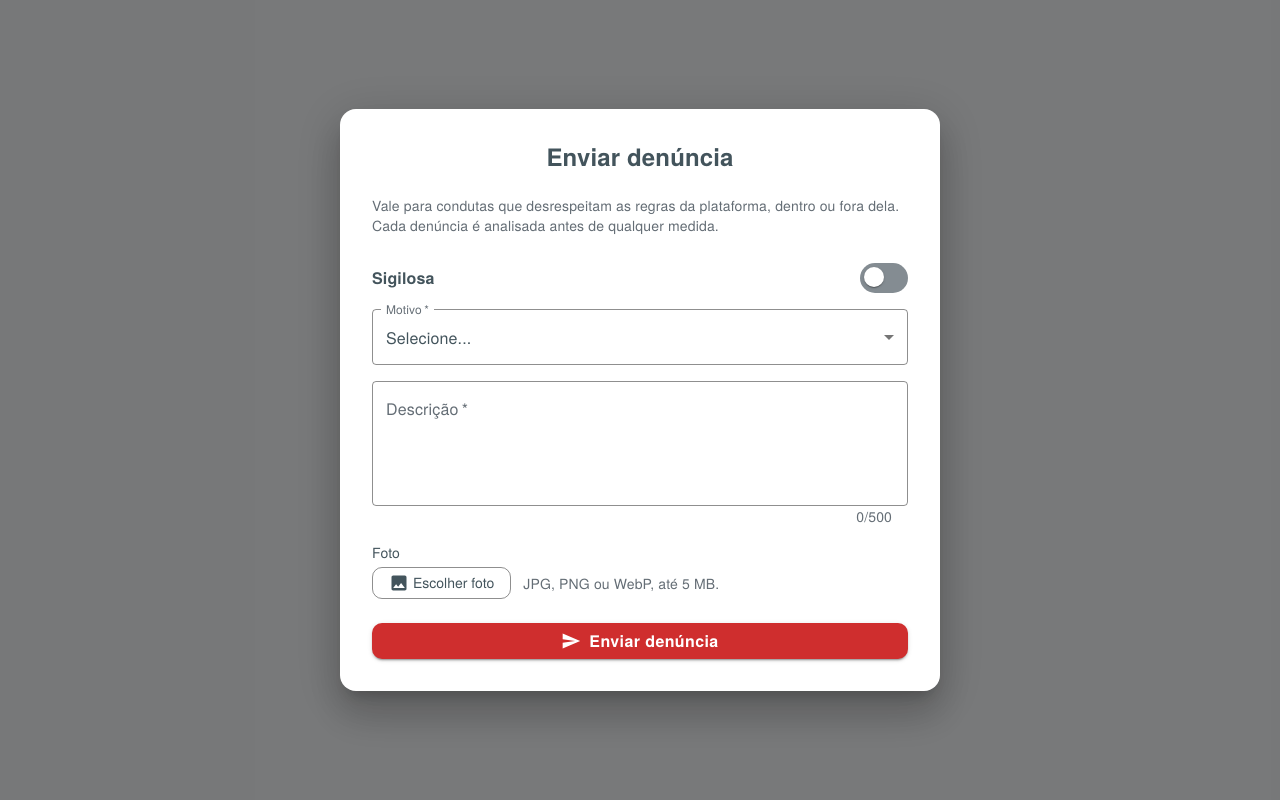
Test case: ReportFormDialog › should refuse a description shorter than the entity accepts
Expected: the heading "Enviar denúncia" is shown, [546,139,734,173]
Type "sumiu" into the text box labelled "Descrição *" at (640,444), box [386,398,894,490]
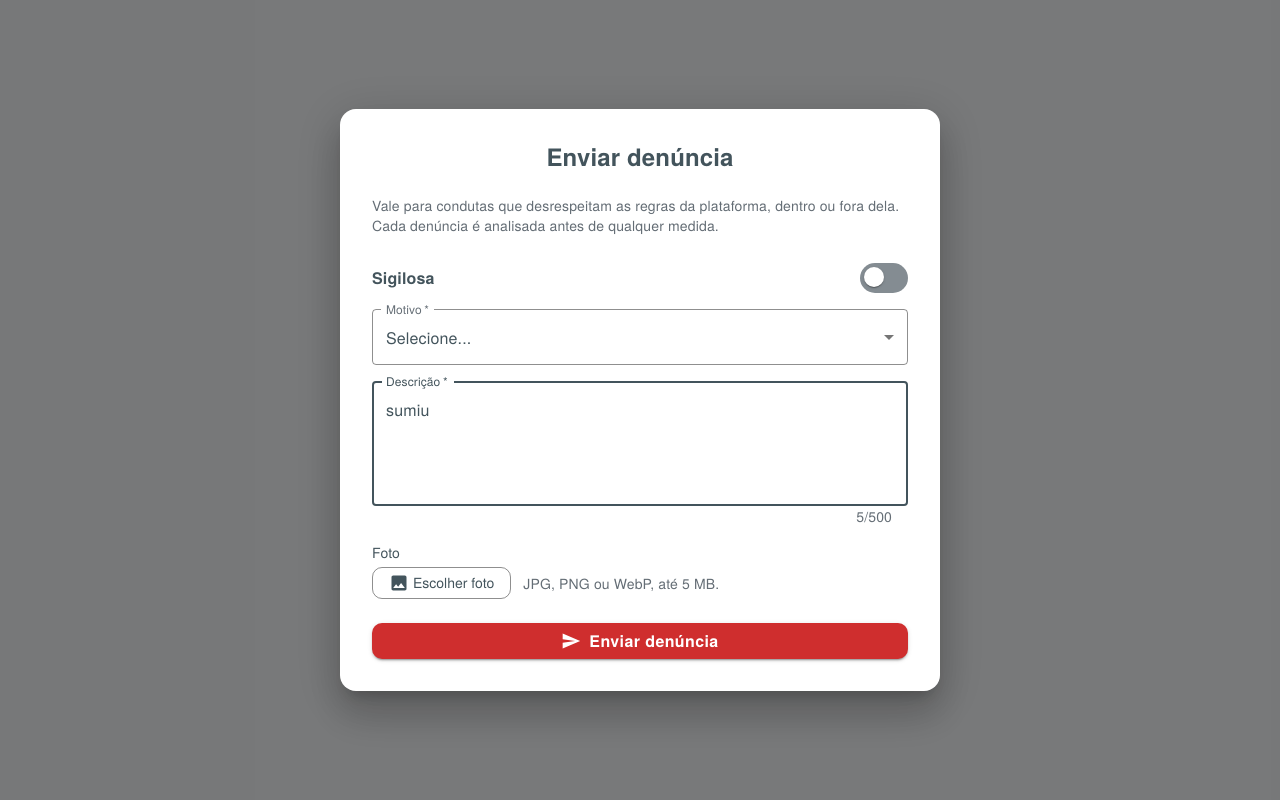
Click the button "Enviar denúncia" at (640,641), box [372,623,908,659]
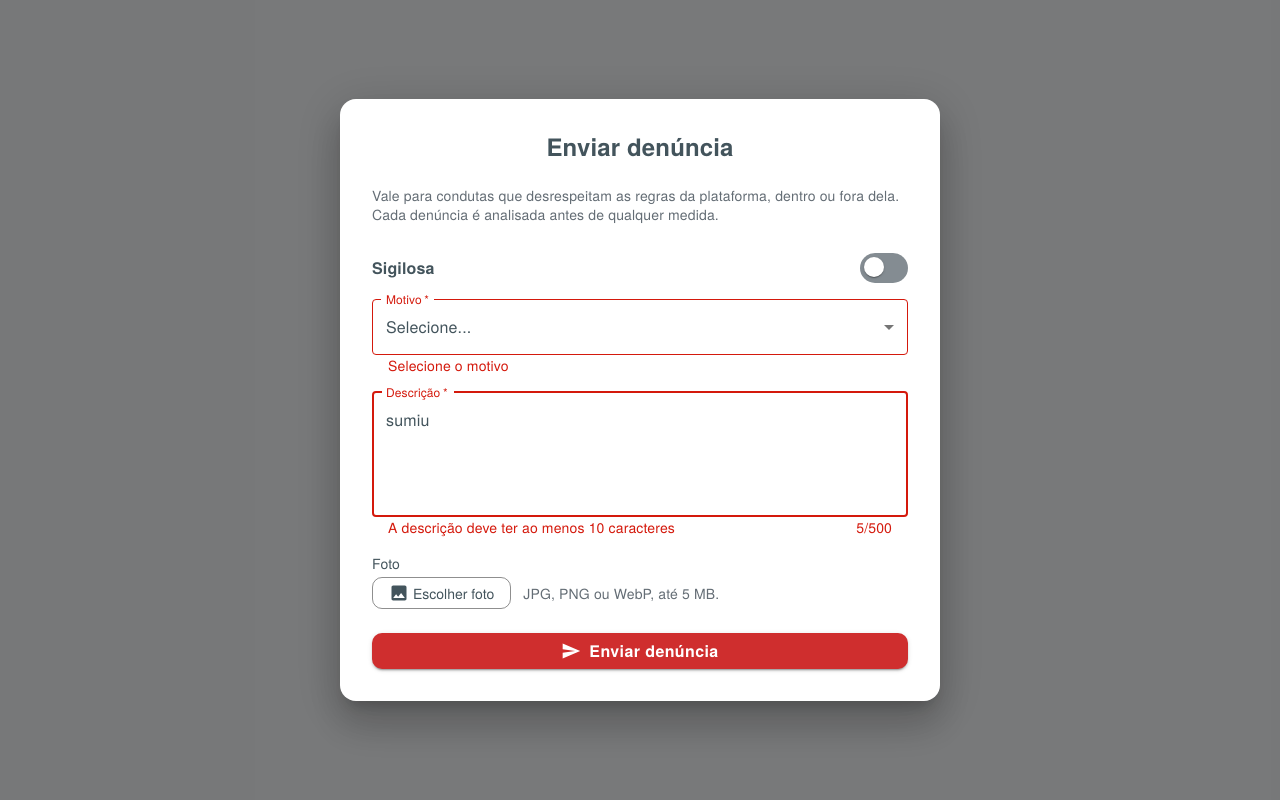
Now the text "Selecione o motivo" is shown, box [388,355,509,375]
